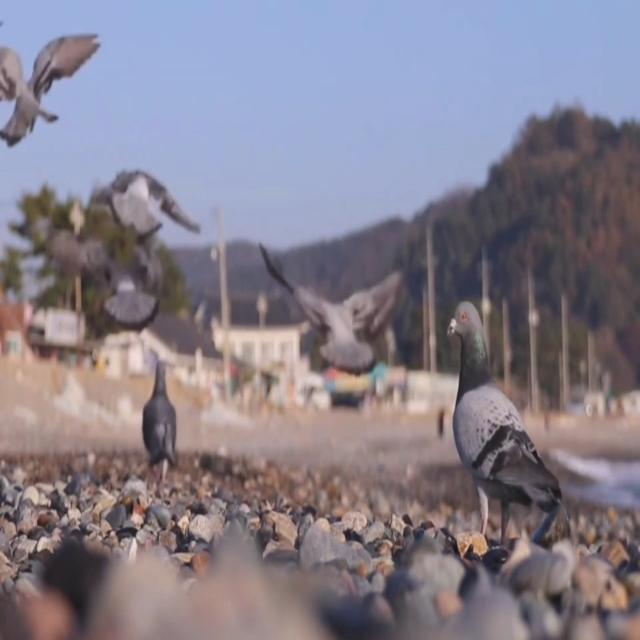bird: (441, 292, 576, 579), (256, 229, 406, 383), (0, 16, 107, 160), (94, 153, 203, 250), (12, 203, 120, 294), (132, 352, 184, 481), (102, 221, 159, 337)
